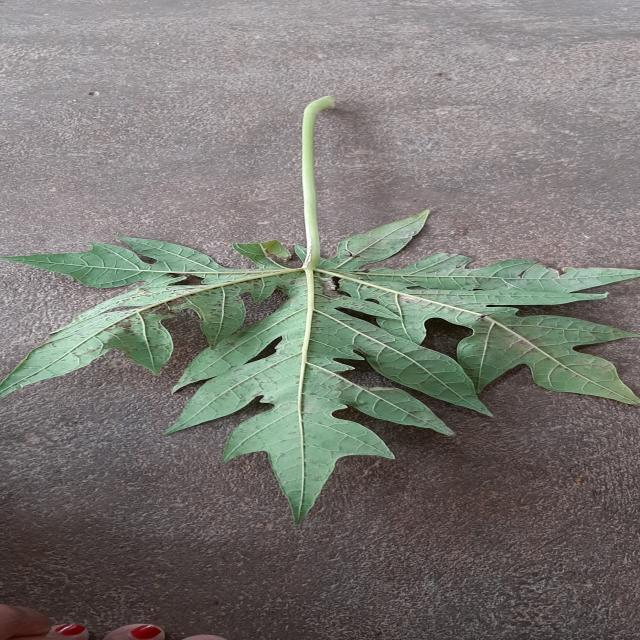leaf spot: (3, 212, 637, 515)
